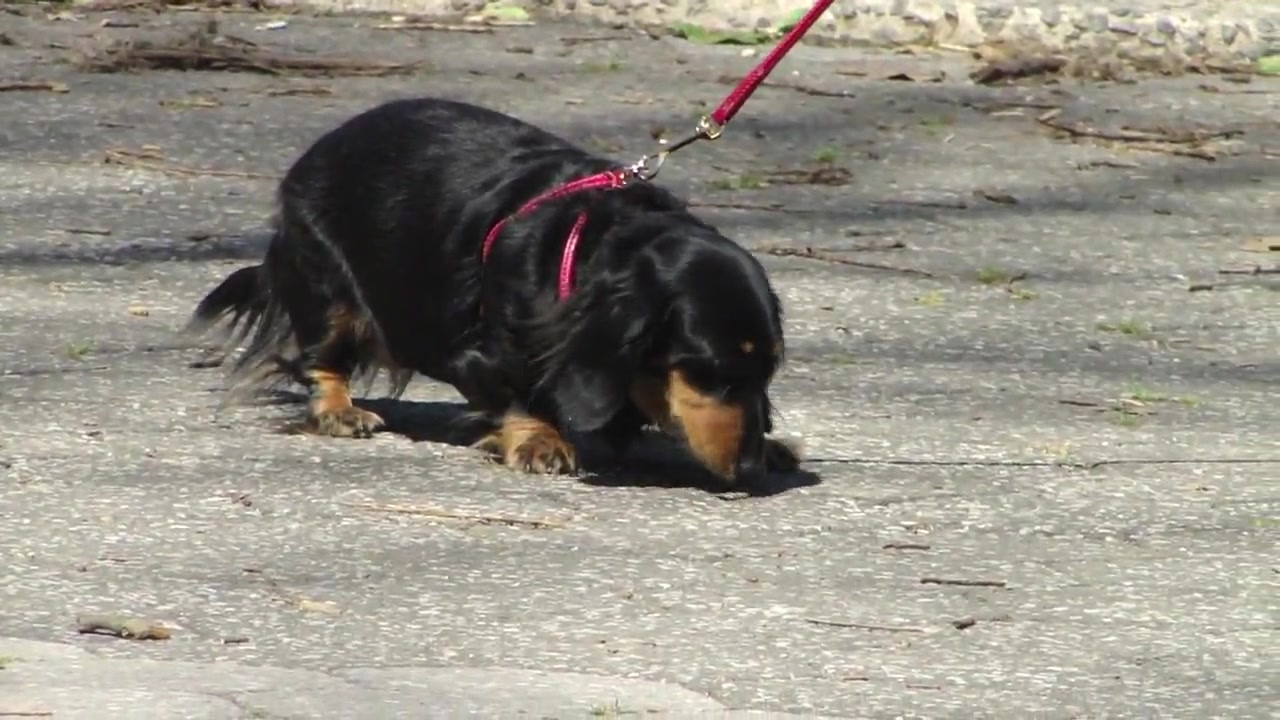dog: (180, 94, 789, 493)
